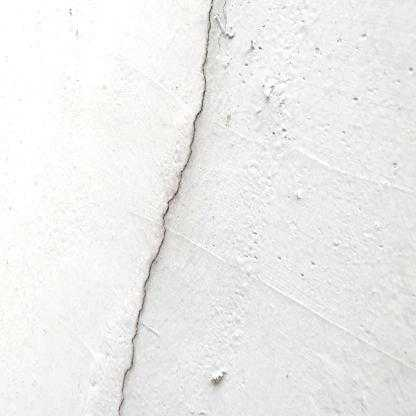crack: (118, 0, 214, 416), (218, 0, 228, 53)
